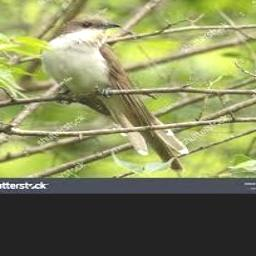Cuckoo: (44, 16, 188, 170)
